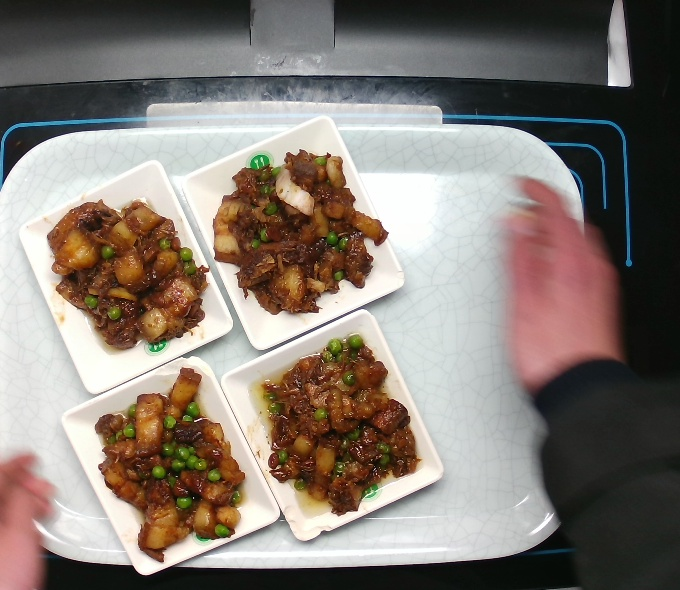wcq-JiangRou: (210, 143, 388, 318), (38, 180, 216, 355), (90, 367, 250, 558), (266, 339, 416, 515)
